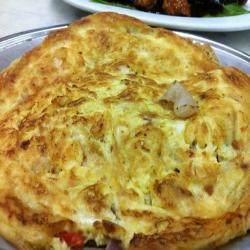omelette: (6, 14, 250, 249)
